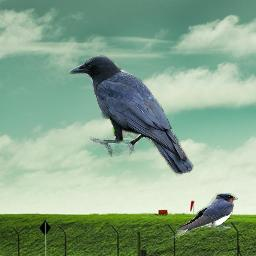Crow: (68, 55, 194, 178)
Swallow: (169, 193, 238, 241)
